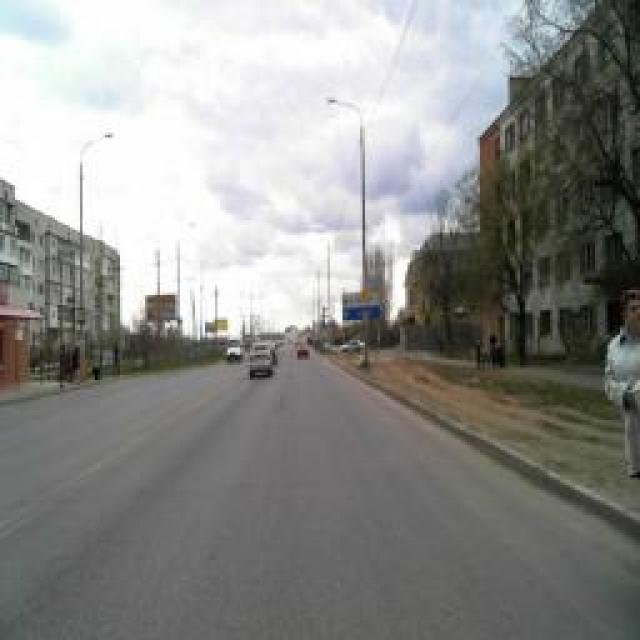sign: (359, 284, 371, 306)
